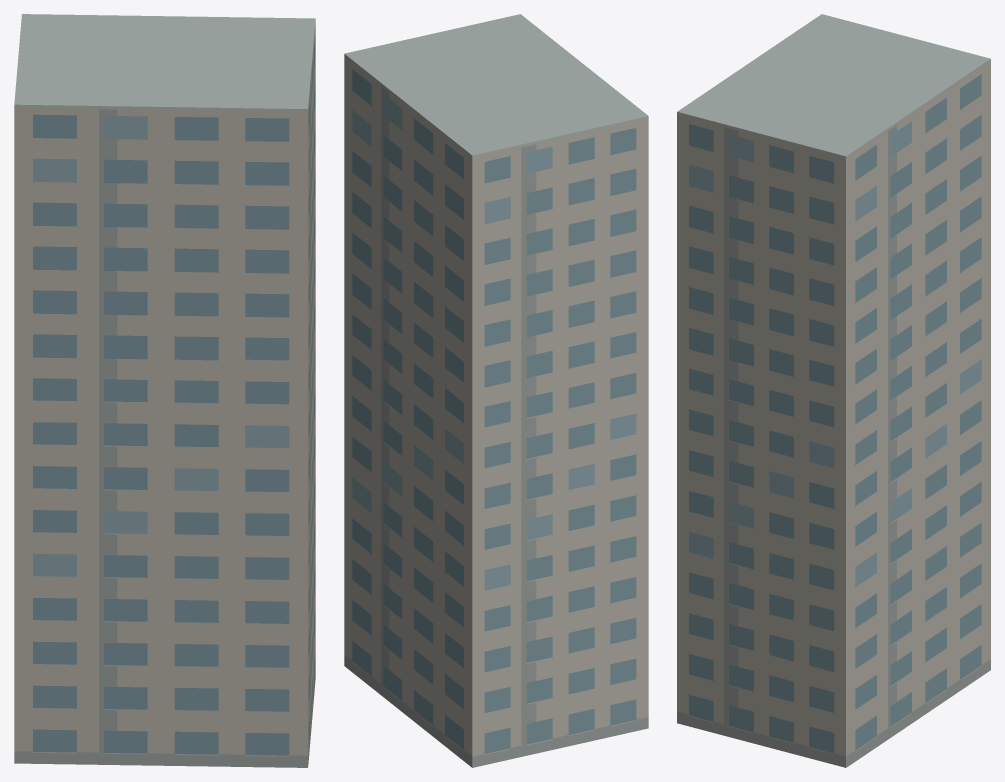
The model's file is residential-338a6d25-f2e8-425b-b32c-eb29a58b5b5c.glb.
3 renders of one model, left to right at view 1: azimuth 30°, elevation 25°; view 2: azimuth 150°, elevation 25°; view 3: azimuth 270°, elevation 25°, orthographic. The views are drawn at different scales.
Visible parts, largest first — view 1: residential-338a6d25-f2e8-425b-b32c-eb29a58b5b5c.tmp; view 2: residential-338a6d25-f2e8-425b-b32c-eb29a58b5b5c.tmp; view 3: residential-338a6d25-f2e8-425b-b32c-eb29a58b5b5c.tmp.
Part boxes in pixels (box(x1,y1,x2,y2)): residential-338a6d25-f2e8-425b-b32c-eb29a58b5b5c.tmp: box(14, 14, 315, 767); residential-338a6d25-f2e8-425b-b32c-eb29a58b5b5c.tmp: box(344, 14, 648, 767); residential-338a6d25-f2e8-425b-b32c-eb29a58b5b5c.tmp: box(677, 14, 990, 767).
Bounding box in the file's own units: 23.98 × 48 × 22.33.
